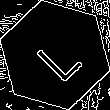L_NW: (26, 26, 84, 84)
